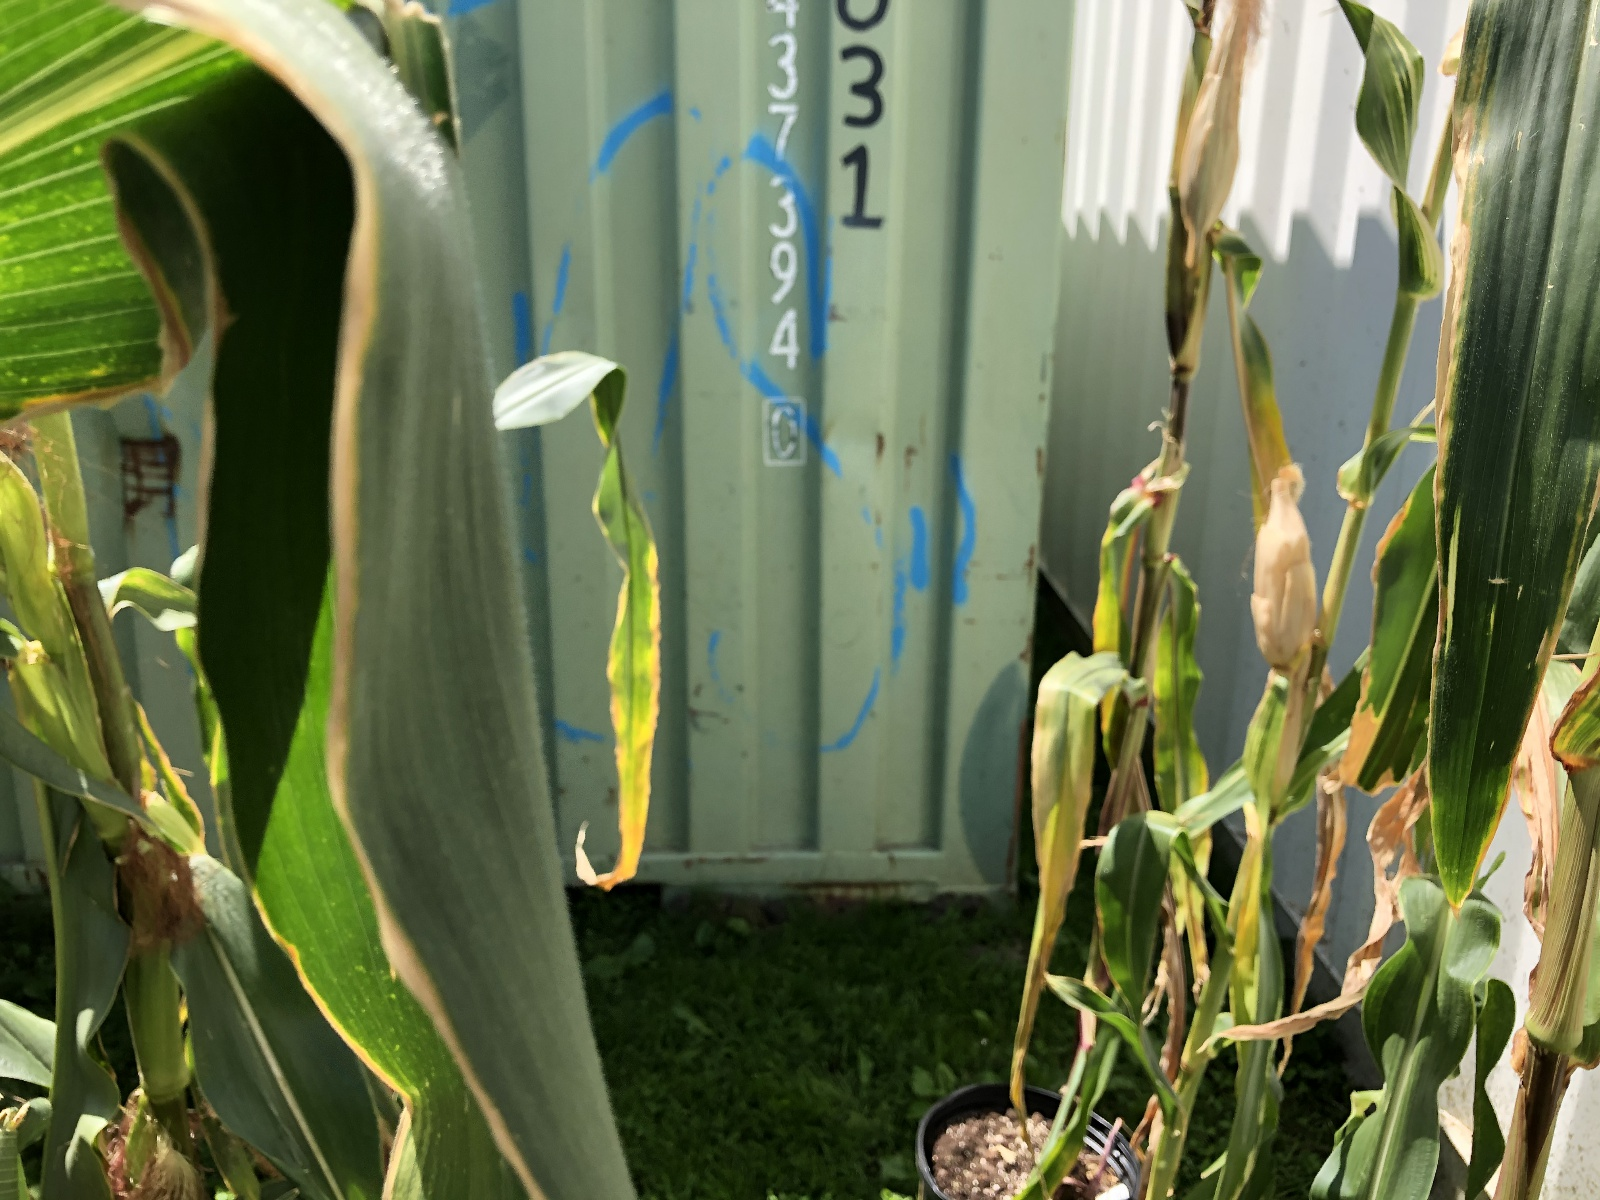ear: (1246, 466, 1324, 662)
